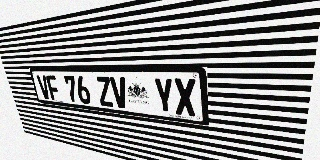6: (74, 76, 92, 104)
7: (63, 76, 80, 103)
F: (45, 75, 61, 101)
V: (110, 77, 129, 109), (36, 75, 51, 100)
X: (173, 78, 197, 117)
Y: (153, 78, 175, 114)
Z: (95, 76, 114, 107)
